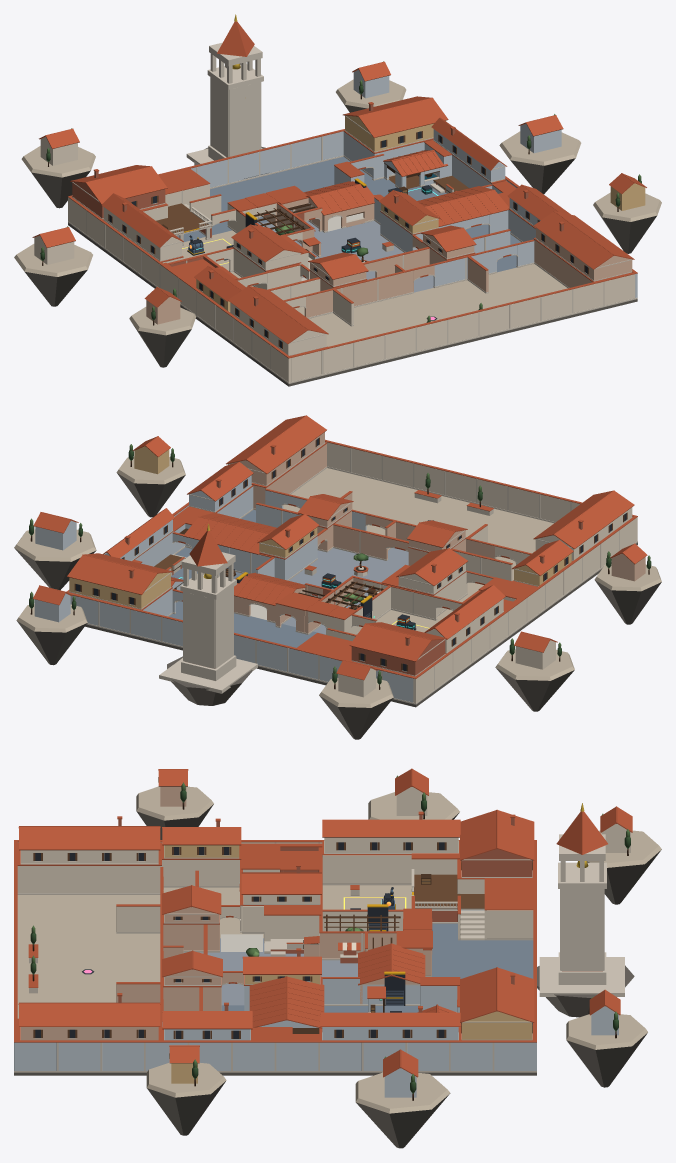
File: ascent_map.glb
3 renders of one model, top to bottom at view 1: azimuth 30°, elevation 25°; view 2: azimuth 150°, elevation 25°; view 3: azimuth 270°, elevation 25°, orthographic. The views are drawn at different scales.
Parts seen in each view (by area): view 1: Ascent_Skyline, Ascent_Mid_Center, Ascent_Floors, Ascent_SiteA_West, Ascent_SiteB_East, Ascent_Props_Cover; view 2: Ascent_Skyline, Ascent_Mid_Center, Ascent_SiteA_West, Ascent_Floors, Ascent_SiteB_East, Ascent_Props_Cover; view 3: Ascent_Skyline, Ascent_SiteA_West, Ascent_SiteB_East, Ascent_Floors, Ascent_Mid_Center, Ascent_Props_Cover.
Boxes of the visible parts, x1=… form: Ascent_Skyline: x1=14, y1=14, x2=661, y2=367; Ascent_Mid_Center: x1=71, y1=129, x2=635, y2=383; Ascent_Floors: x1=68, y1=156, x2=637, y2=386; Ascent_SiteA_West: x1=68, y1=168, x2=353, y2=383; Ascent_SiteB_East: x1=334, y1=130, x2=637, y2=299; Ascent_Props_Cover: x1=40, y1=61, x2=641, y2=325; Ascent_Skyline: x1=14, y1=415, x2=661, y2=739; Ascent_Mid_Center: x1=68, y1=439, x2=634, y2=703; Ascent_SiteA_West: x1=297, y1=515, x2=637, y2=704; Ascent_Floors: x1=85, y1=468, x2=637, y2=707; Ascent_SiteB_East: x1=66, y1=442, x2=366, y2=616; Ascent_Props_Cover: x1=28, y1=444, x2=651, y2=689; Ascent_Skyline: x1=18, y1=768, x2=661, y2=1148; Ascent_SiteA_West: x1=14, y1=840, x2=536, y2=942; Ascent_SiteB_East: x1=14, y1=963, x2=536, y2=1072; Ascent_Floors: x1=14, y1=885, x2=536, y2=1075; Ascent_Mid_Center: x1=14, y1=841, x2=536, y2=1040; Ascent_Props_Cover: x1=28, y1=775, x2=630, y2=1100.
Bounding box in the file's own units: 133 × 41.05 × 114.
